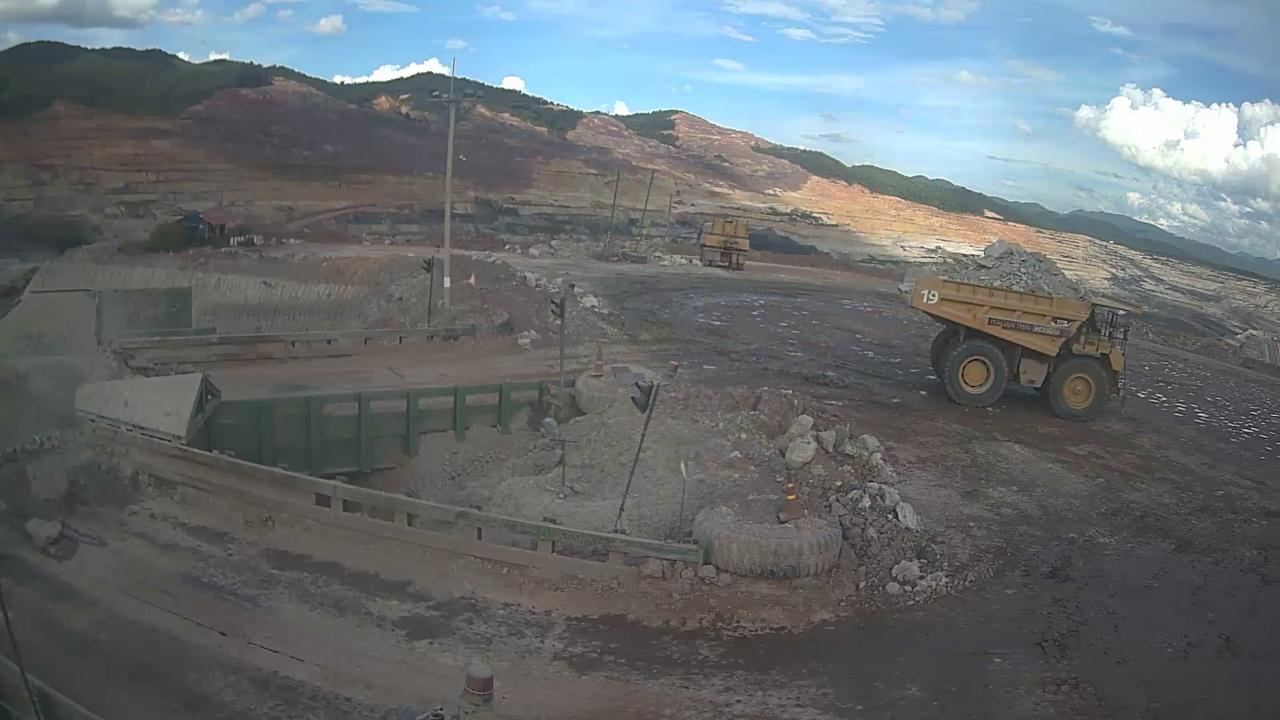full_load: (967, 244, 1090, 303)
mining_truck: (902, 228, 1142, 420)
tail_number: (919, 289, 942, 307)
